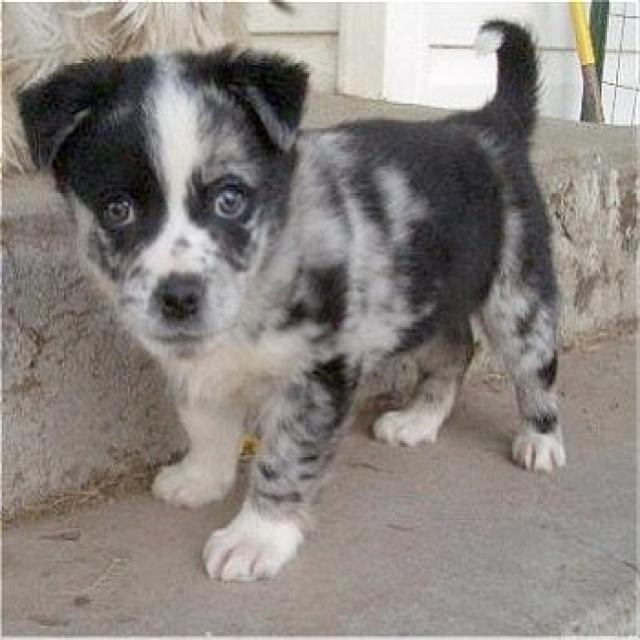dog: (8, 36, 338, 374)
